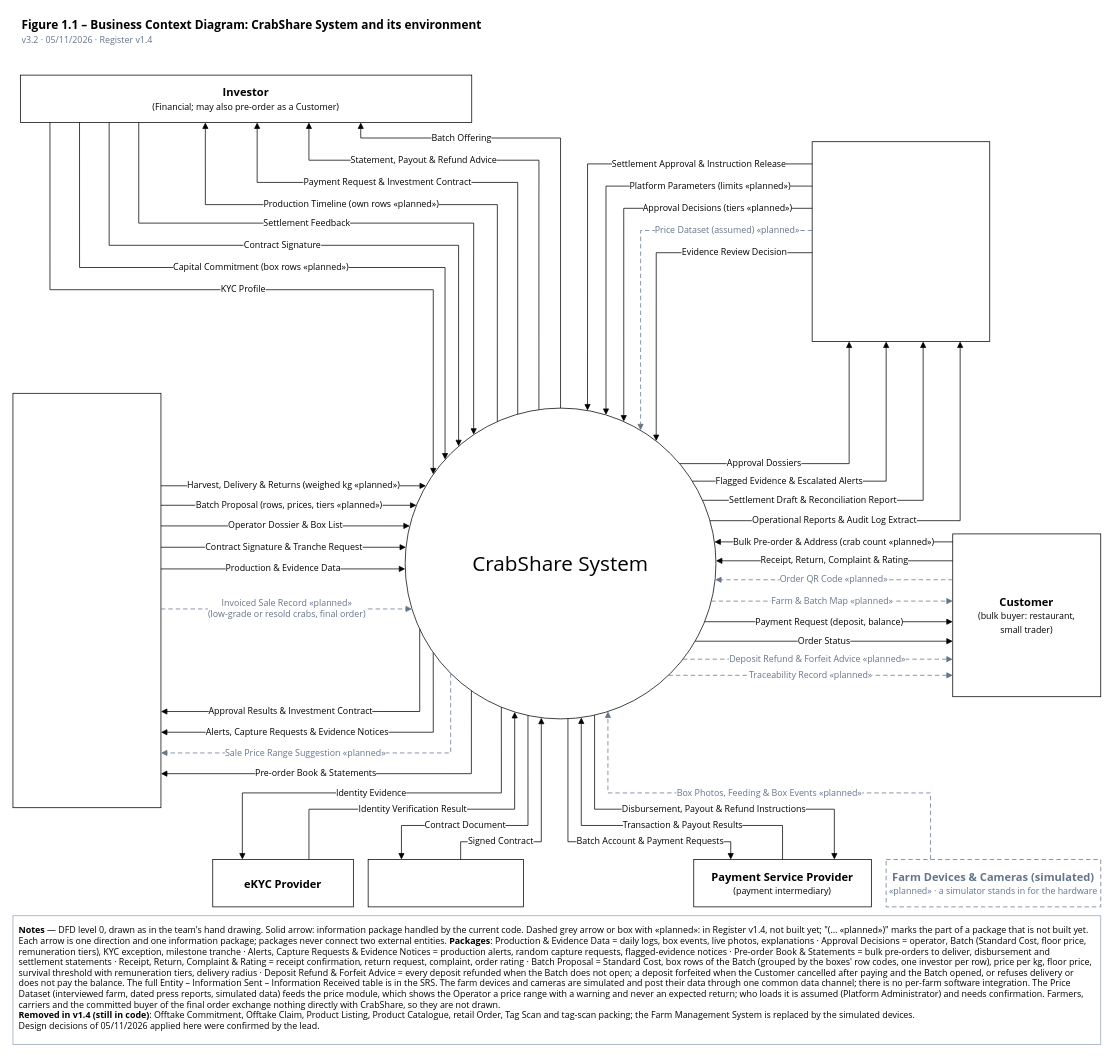
This 1114x1057 diagram has some shape labels left out. Each missing label, with the centre of its shape:
"Digital Signature Service (Viettel)" goes at point (445, 883).
"Operator" goes at point (86, 600).
"Platform Administrator (incl. Evidence Reviewer)" goes at point (900, 241).
